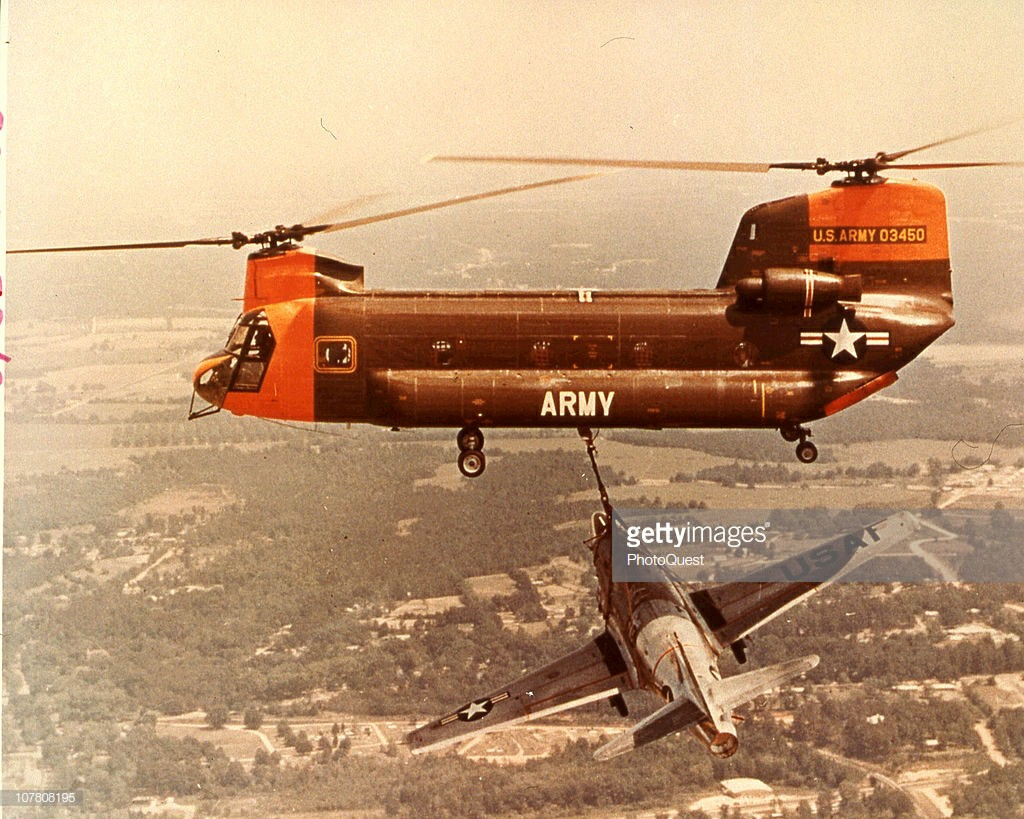chinook: (138, 132, 998, 473)
